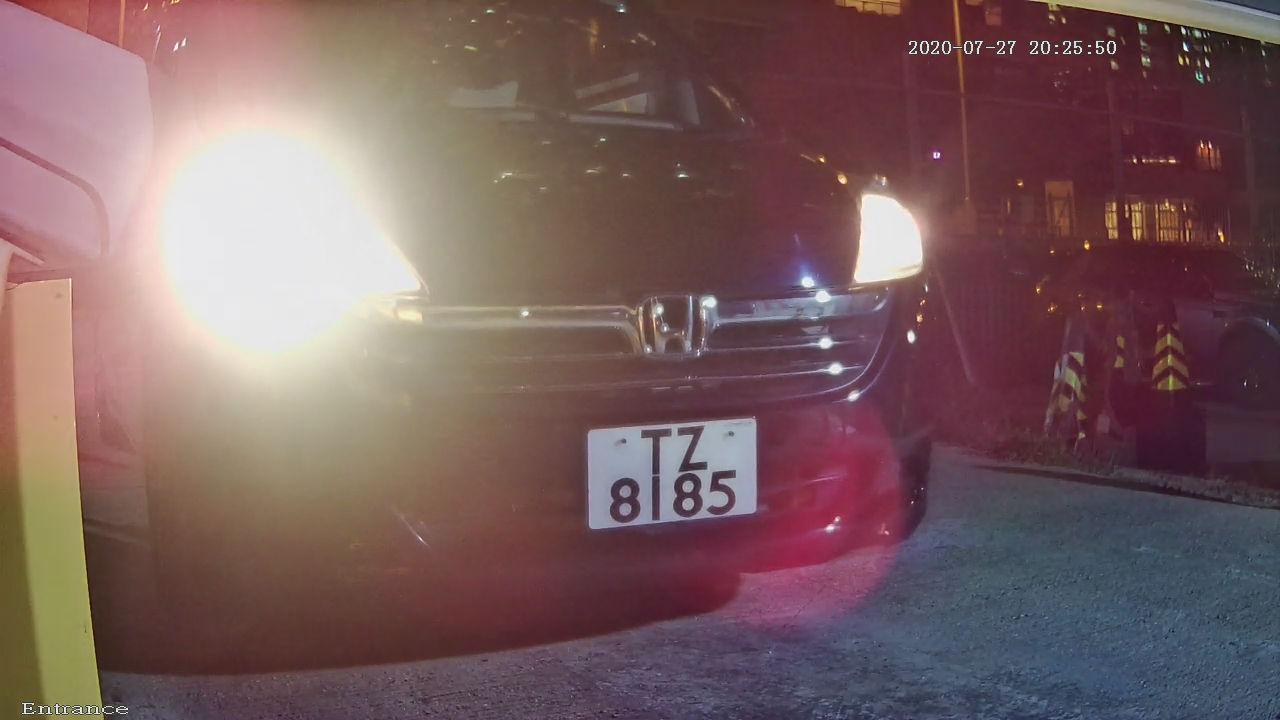privatecar: (86, 4, 1041, 650)
